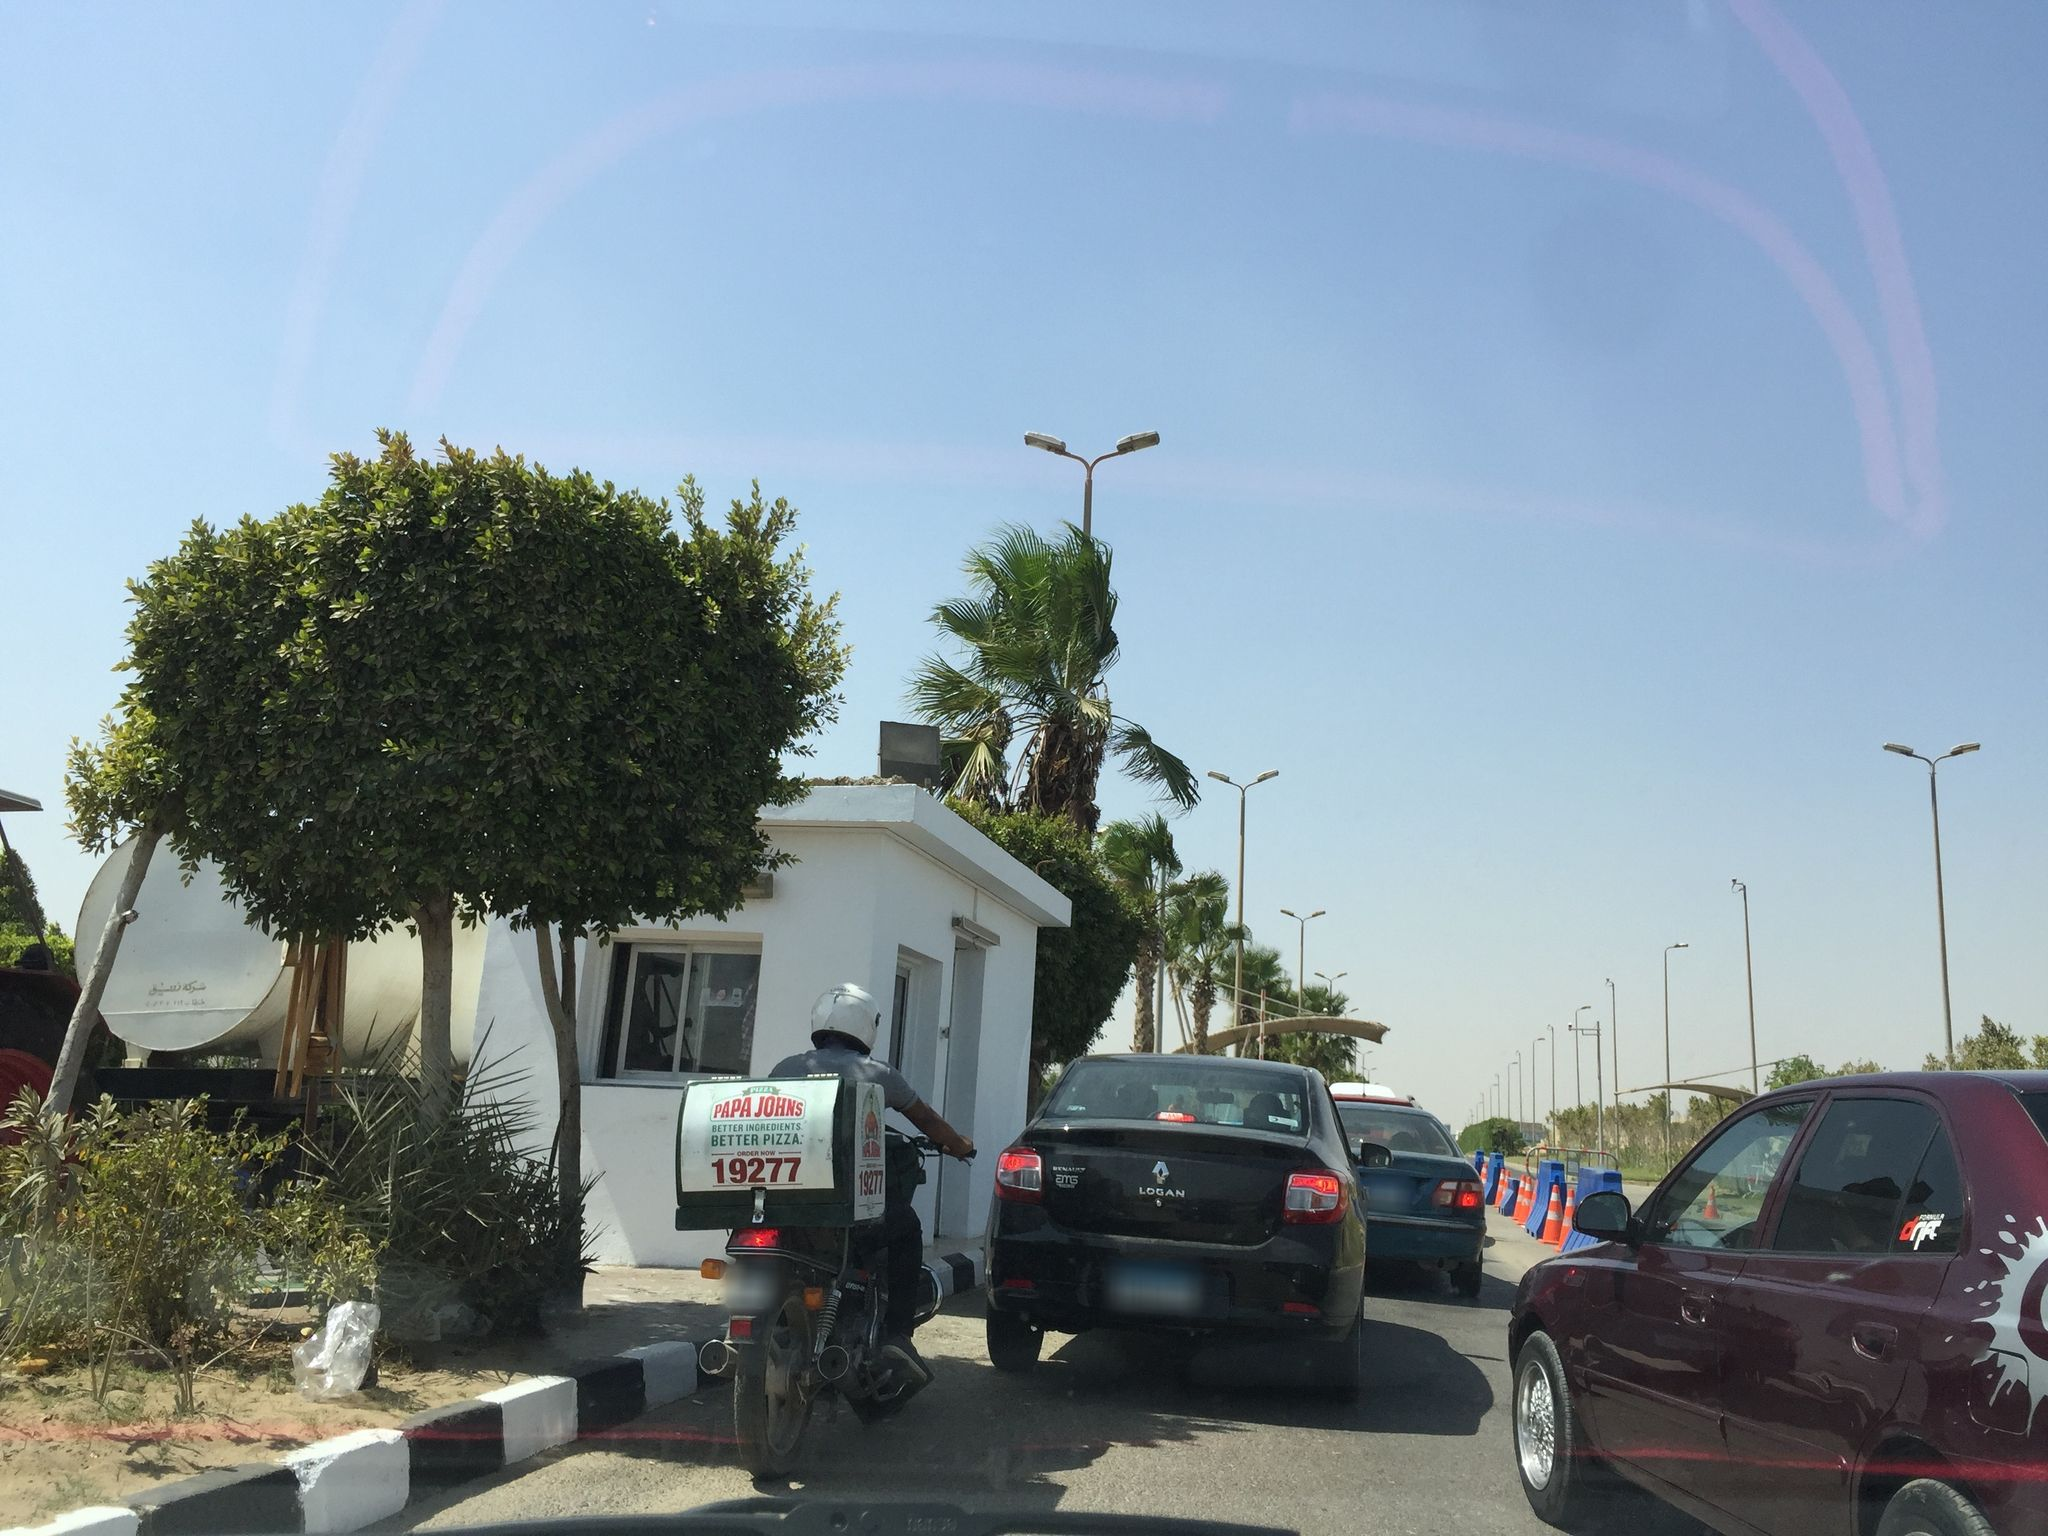car: (1503, 1062, 2048, 1536), (980, 1049, 1392, 1400), (1290, 1099, 1485, 1297)
motorcycle: (672, 1066, 979, 1484)
